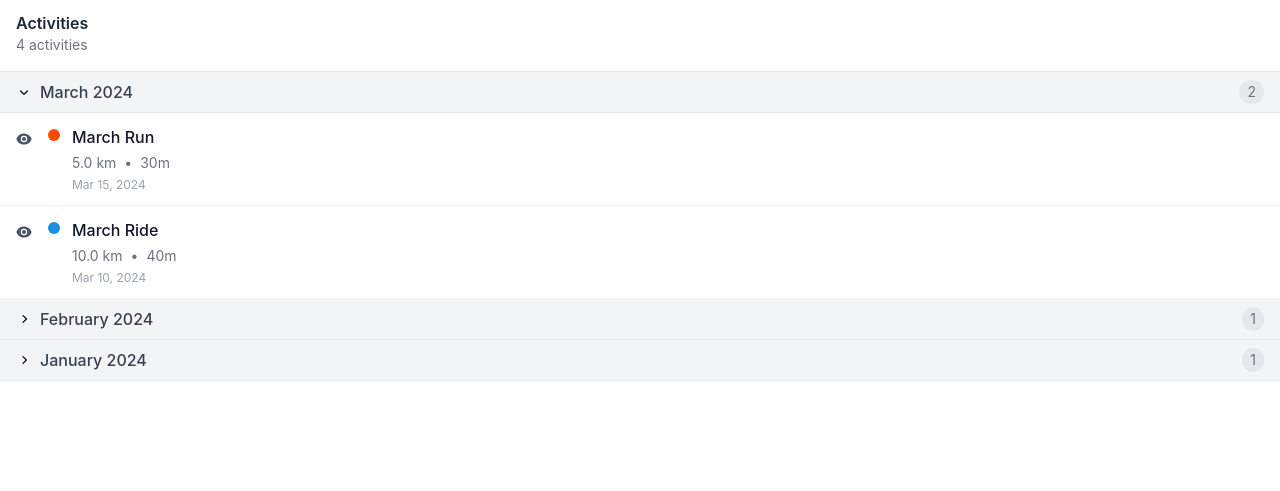
Test: ActivityList month grouping › toggles month section on header click
expect the heading "March Run" is shown: met, box [72, 127, 154, 147]
expect the text "February Walk" is not shown: met
Click February header to expand it
Click the text "February 2024". click: point(97, 319)
box: [40, 309, 153, 329]
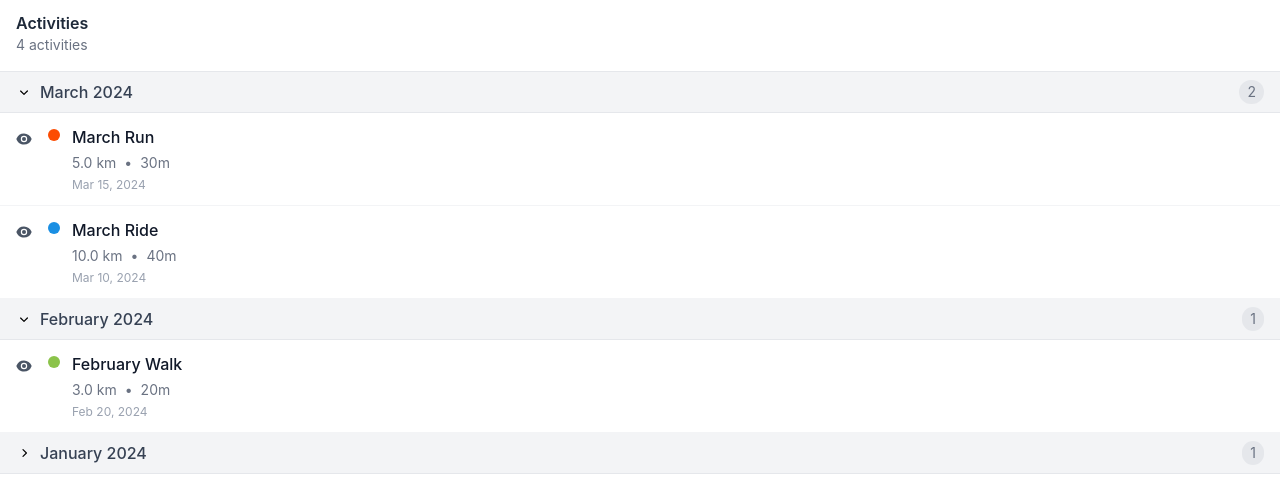
expect the heading "February Walk" is shown: met, box [72, 354, 182, 374]
Click March header to collapse it
Click the text "March 2024". click: point(86, 92)
box: [40, 82, 133, 102]
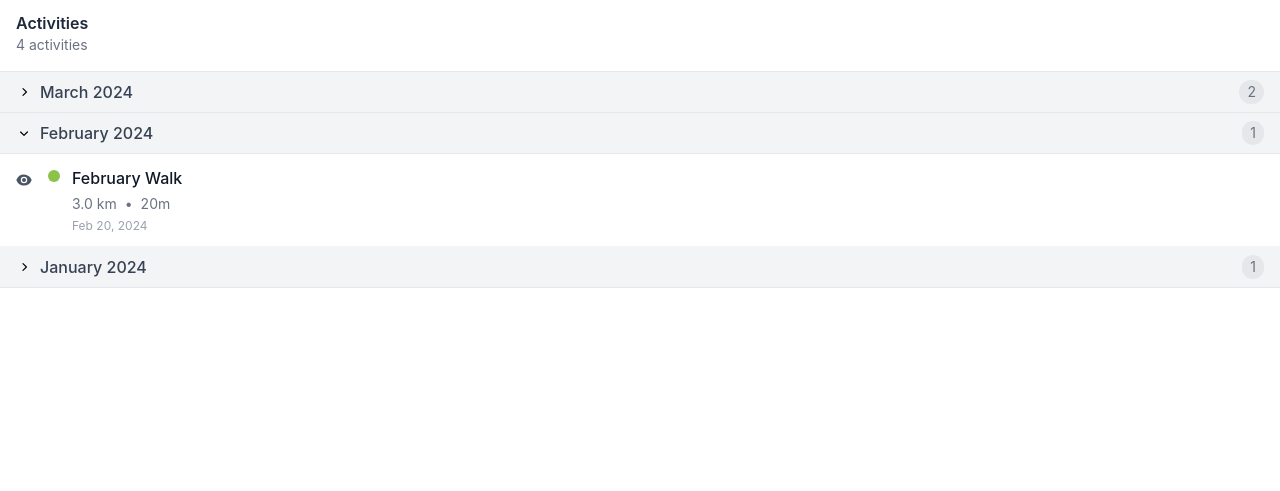
expect the option "March Run" is gone: met
